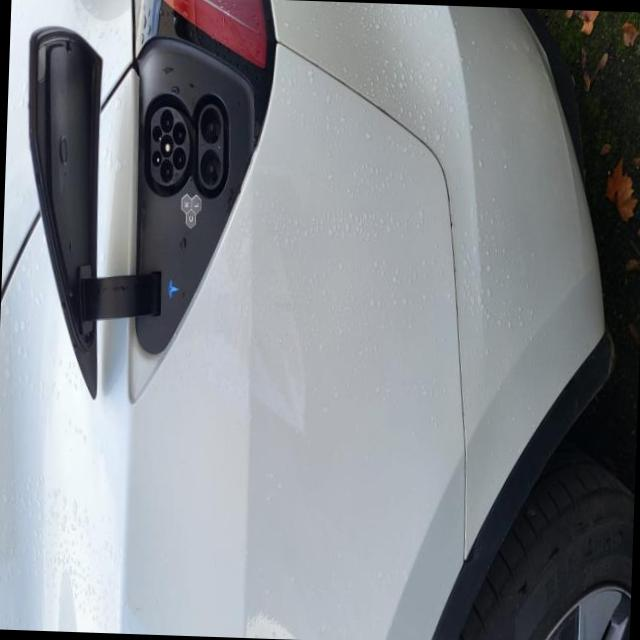inlet: (151, 105, 189, 184)
inlet-above-left: (152, 149, 161, 165)
inlet-above-right: (152, 124, 161, 140)
inlet-below-left: (172, 145, 185, 169)
inlet-below-right: (172, 121, 186, 144)
inlet-center: (160, 133, 173, 156)
inlet-center-left: (160, 158, 173, 181)
inlet-center-right: (160, 108, 173, 131)
